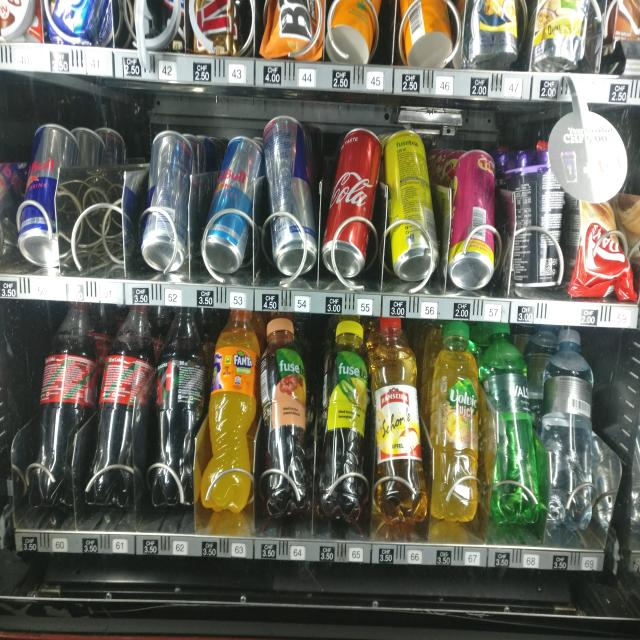7days_croissantschoko_packung_80_1_0000000000003: (567, 166, 631, 292)
caferoyal_classicmacchiato__33__7617014164487: (508, 145, 565, 287)
coke__dose_33__54491472: (322, 124, 381, 280)
coke__flasche_50__54491472: (92, 300, 154, 514), (31, 300, 92, 514)
coke_zero_flasche_50__5449000131836: (158, 308, 208, 505)
fanta___50__40822938: (210, 304, 259, 512)
fuse_lemon__50__5449000235947: (320, 313, 369, 523)
fuse_lemon_dose_33__5449000235947: (387, 125, 443, 281)
fuse_peach__50__5449000236623: (260, 315, 313, 516)
ramseier_schorle__50__7610057012456: (370, 315, 429, 523)
redbull___33__90162909: (259, 112, 319, 275), (14, 119, 74, 268), (201, 132, 254, 272), (144, 122, 191, 267)
tiki_himbeer_brause__50__00000000009342: (448, 148, 499, 288)
valser_classic__50__76404160: (478, 320, 541, 521)
valser_still__50__7610335002575: (534, 326, 594, 527)
volvic_pinapple__50__305764335648: (429, 319, 482, 522)
